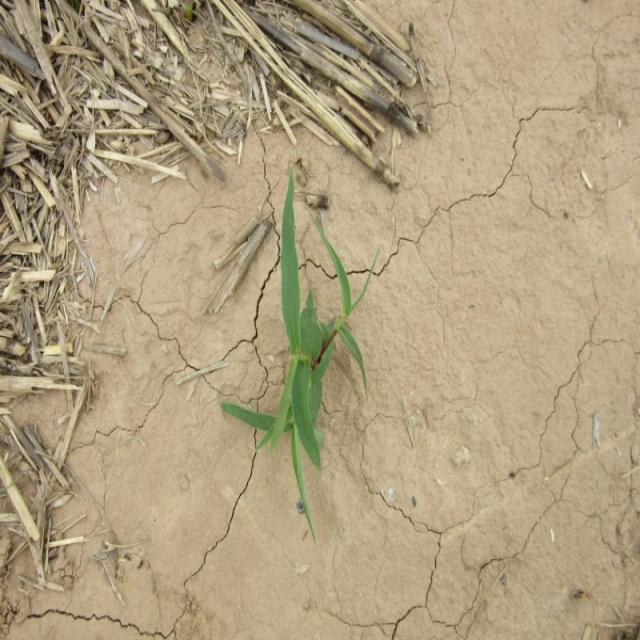bg: (221, 164, 373, 541)
